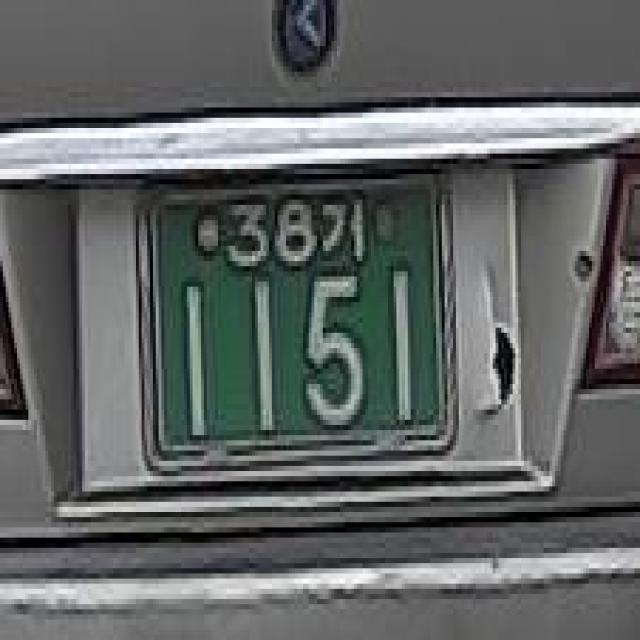illegal_plate: (120, 159, 472, 478)
